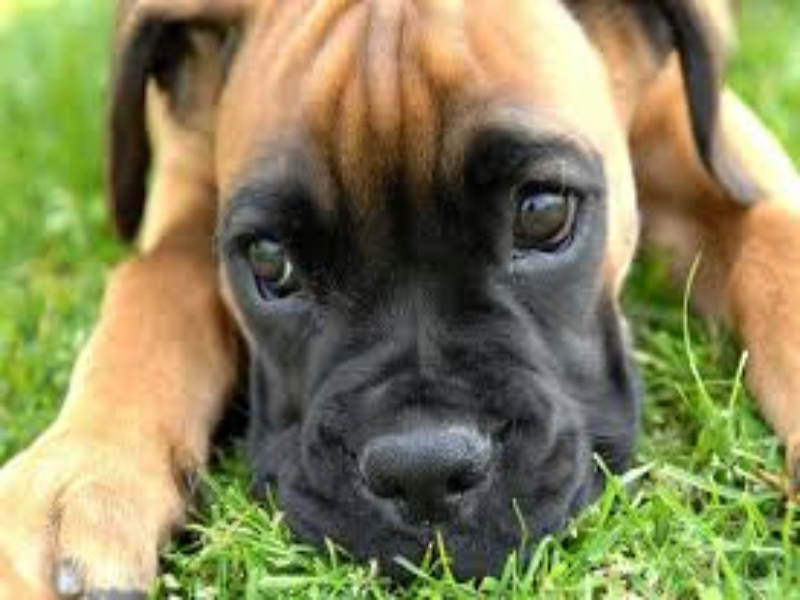dog: (43, 8, 779, 600)
